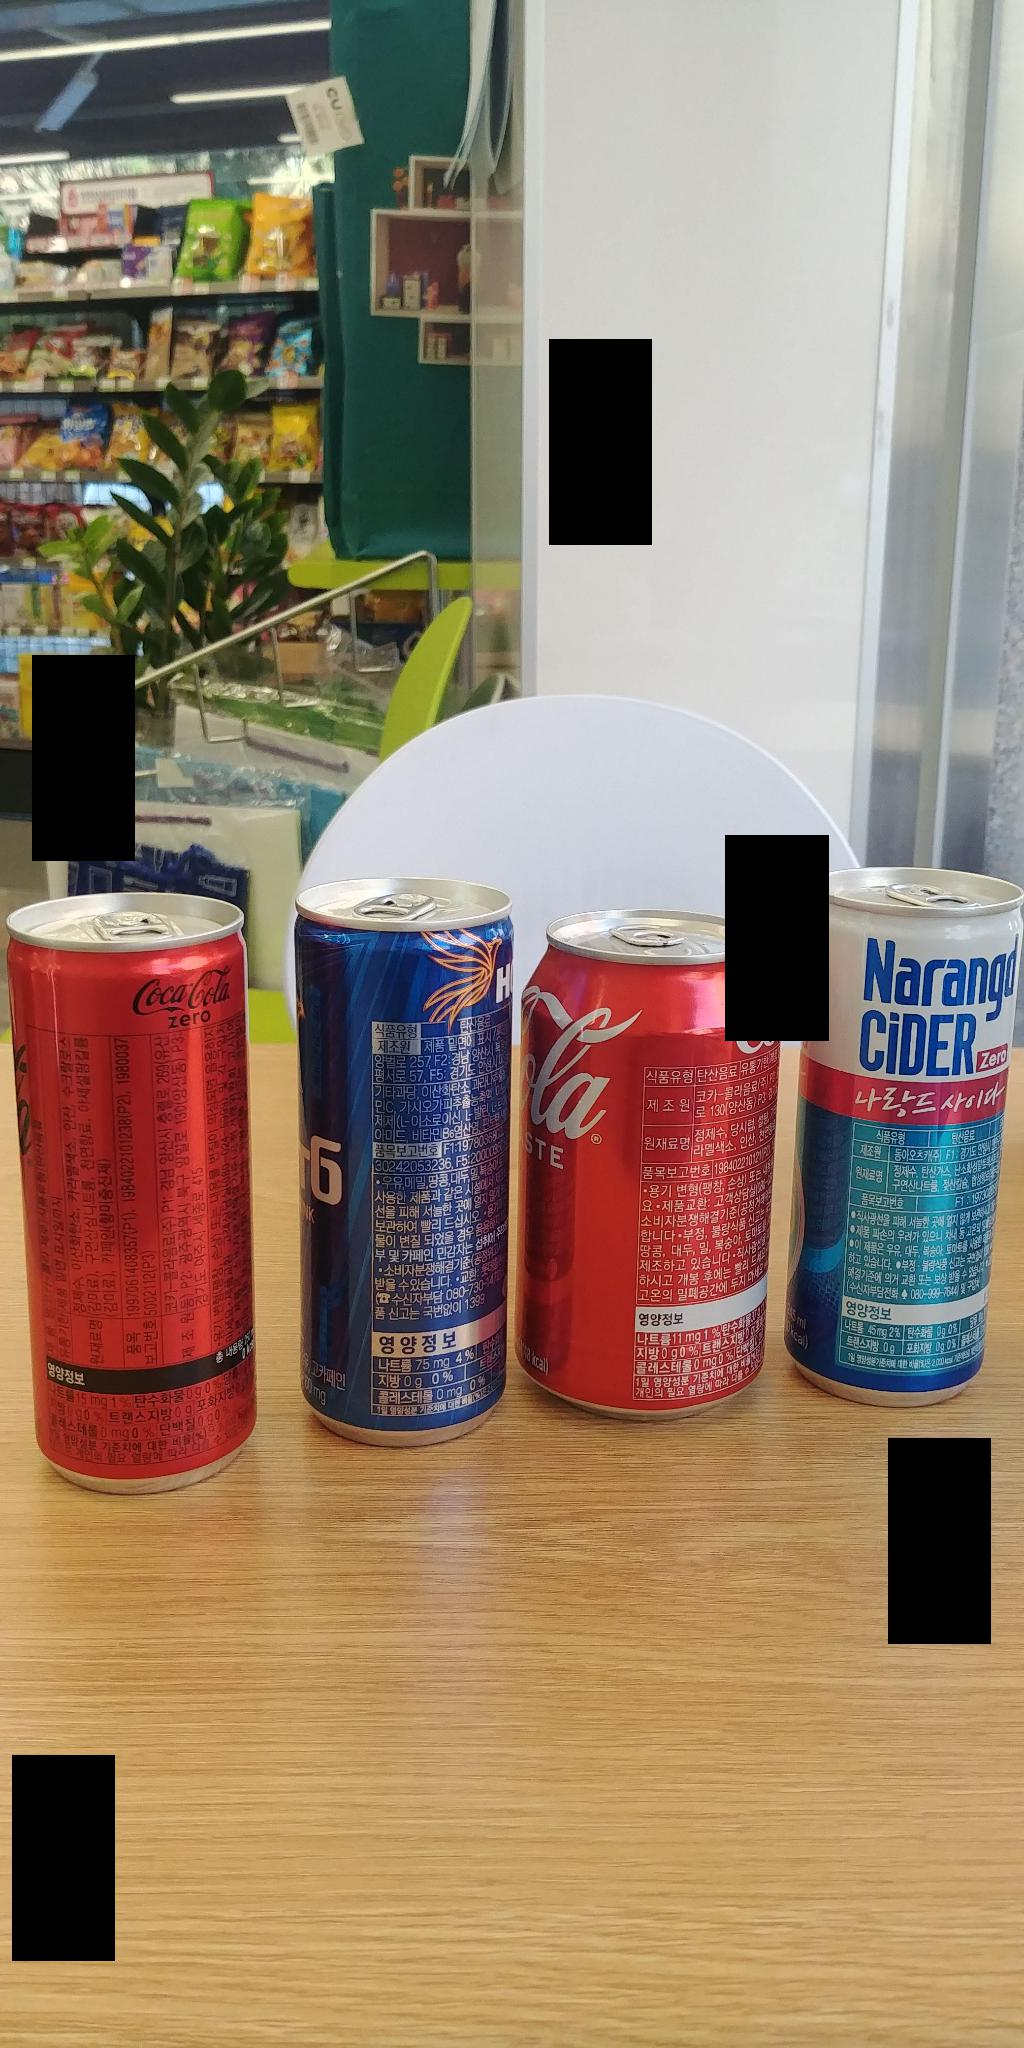cocacola: (543, 910, 765, 1417)
hotsix_org: (282, 861, 528, 1437)
narangdcider: (785, 857, 1024, 1416)
